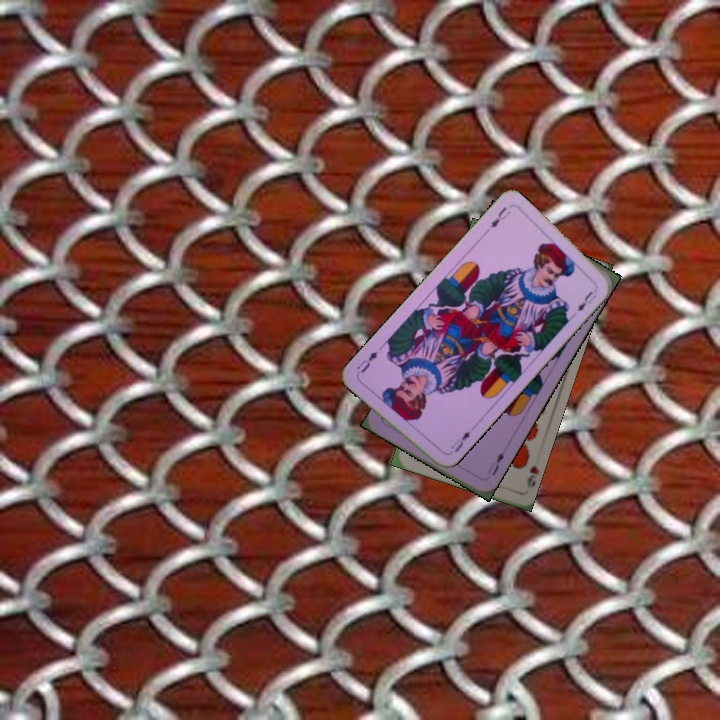EU: (486, 203, 513, 231), (483, 447, 507, 478), (450, 427, 473, 455)
H9: (522, 461, 540, 490)
